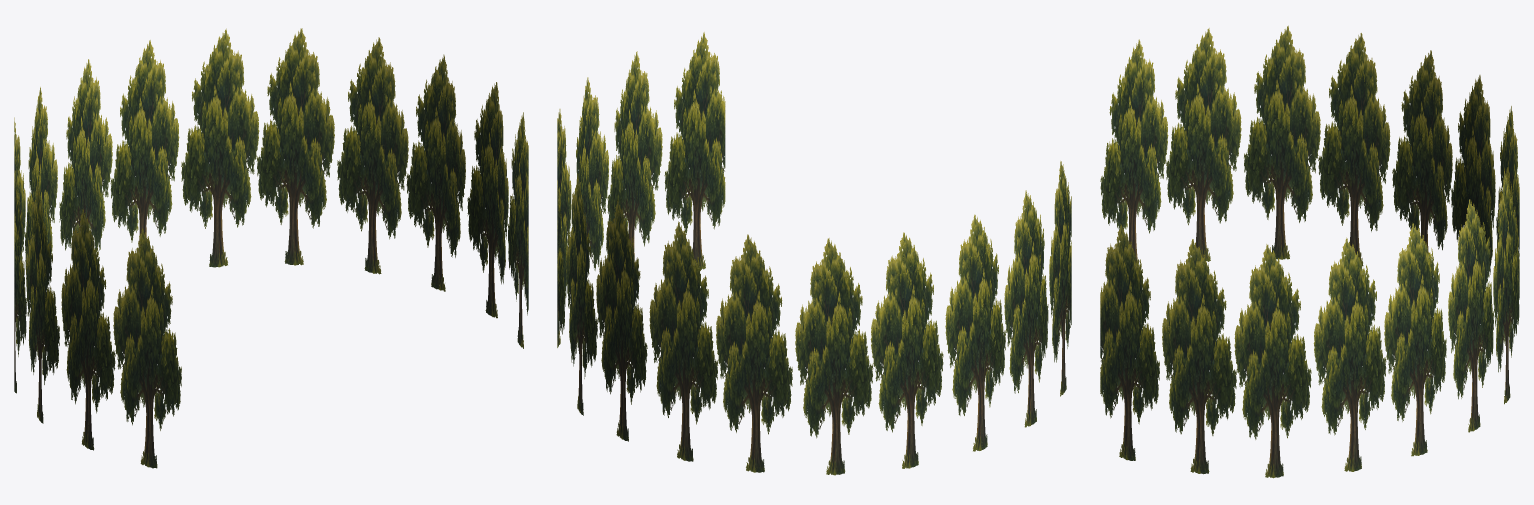
The model's file is TREE_ALPA.fbx.
3 views of the same model, side by side, from view 1: azimuth 30°, elevation 25°; view 2: azimuth 150°, elevation 25°; view 3: azimuth 270°, elevation 25° (orthographic).
Parts seen in each view (by area): view 1: Cylinder001; view 2: Cylinder001; view 3: Cylinder001.
Boxes of the visible parts, <box> form: Cylinder001: <box>14,28,528,468</box>; Cylinder001: <box>557,32,1071,475</box>; Cylinder001: <box>1100,25,1519,478</box>.
Bounding box in the file's own units: 329 × 182 × 267.
Materials: 1 (1 with a texture image).
